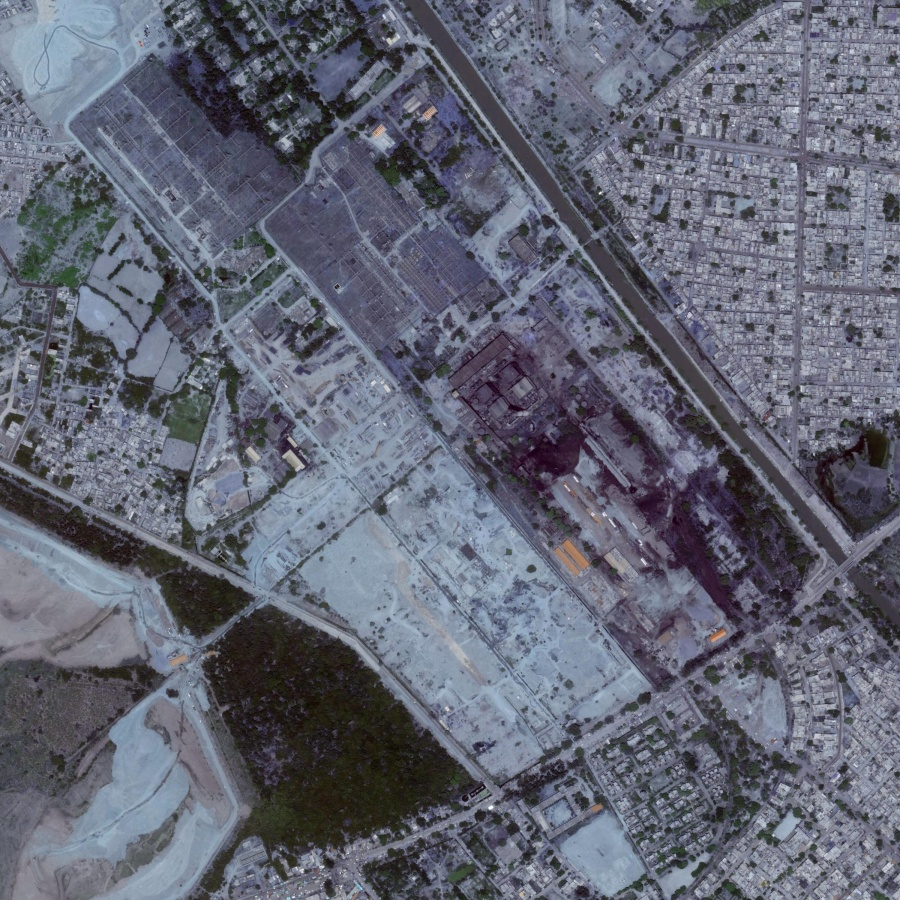PowerPlant: (449, 326, 748, 649)
